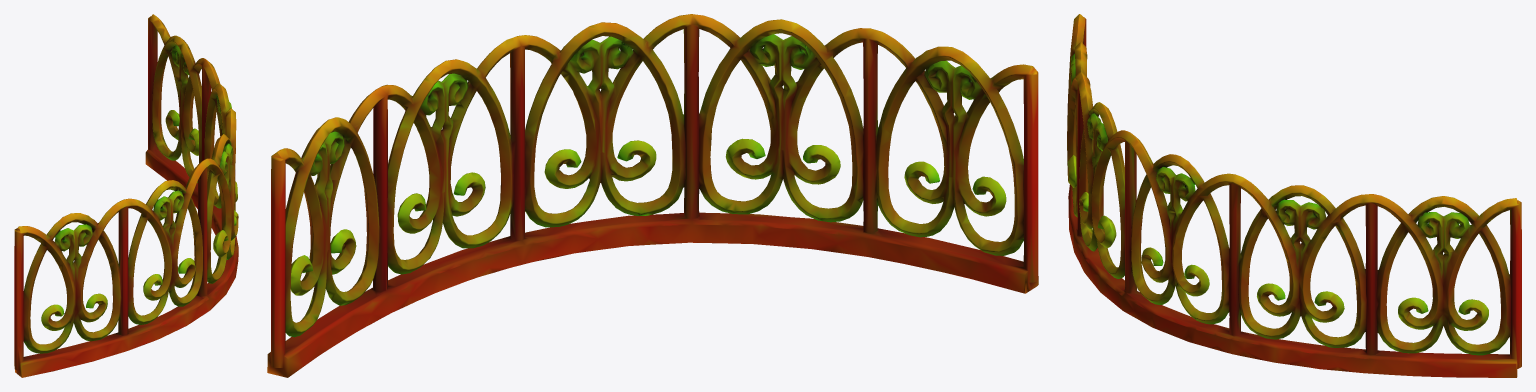
Rendered from FenceShortCorner.fbx.
3 renders of one model, left to right at view 1: azimuth 30°, elevation 25°; view 2: azimuth 150°, elevation 25°; view 3: azimuth 270°, elevation 25°, orthographic. The views are drawn at different scales.
Parts seen in each view (by area): view 1: transform1; view 2: transform1; view 3: transform1.
Boxes of the visible parts, x1,y1,x2,y2 form: transform1: (14,14,238,377); transform1: (267,14,1038,377); transform1: (1067,14,1521,377).
Bounding box in the file's own units: 156 × 157 × 67.24.
